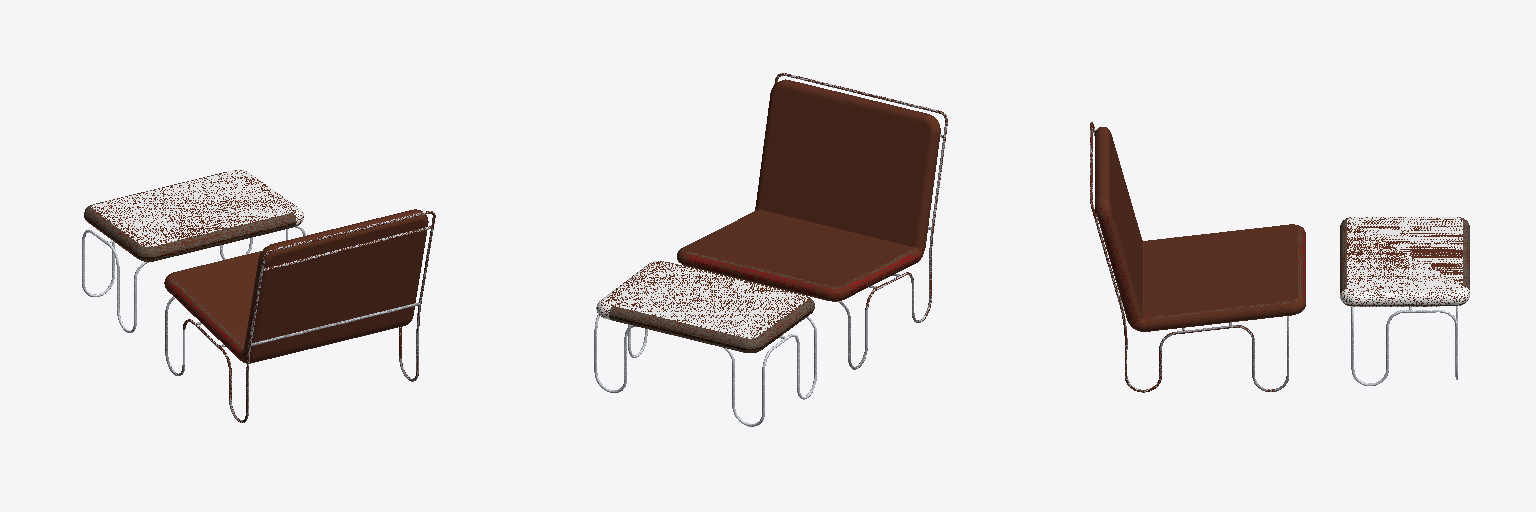
3 views of the same model, side by side, from view 1: azimuth 30°, elevation 25°; view 2: azimuth 150°, elevation 25°; view 3: azimuth 270°, elevation 25° (orthographic).
Visible parts, largest first — view 1: mesh2_mesh2-geometry, mesh8_mesh8-geometry; view 2: mesh2_mesh2-geometry, mesh8_mesh8-geometry; view 3: mesh2_mesh2-geometry, mesh8_mesh8-geometry.
Part boxes in pixels (x1,y1,x2,y2): mesh2_mesh2-geometry: (164, 209, 435, 422); mesh8_mesh8-geometry: (82, 170, 305, 332); mesh2_mesh2-geometry: (677, 73, 947, 369); mesh8_mesh8-geometry: (594, 261, 816, 426); mesh2_mesh2-geometry: (1090, 122, 1305, 392); mesh8_mesh8-geometry: (1340, 217, 1469, 385).
Size of the model in its own units: 0.4186 by 0.4387 by 0.7952.
14 materials, 1 textured.